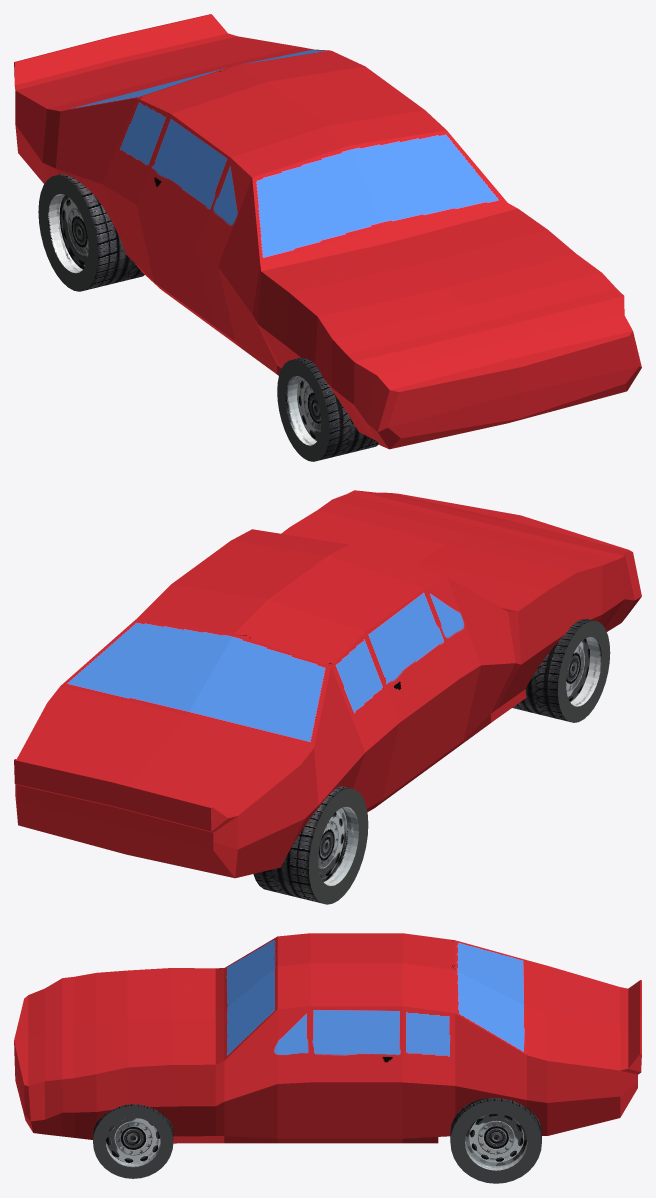
Rendered from CAR fbx.fbx.
3 views of the same model, one above another, from view 1: azimuth 30°, elevation 25°; view 2: azimuth 150°, elevation 25°; view 3: azimuth 270°, elevation 25° (orthographic). The views are drawn at different scales.
Parts seen in each view (by area): view 1: Cube, Wheel.001, Wheel.002; view 2: Cube, Wheel.001, Wheel.002; view 3: Cube, Wheel.003, Wheel.
Part boxes in pixels (x1,y1,x2,y2): Cube: [14, 14, 641, 449]; Wheel.001: [38, 174, 144, 291]; Wheel.002: [277, 357, 378, 461]; Cube: [14, 490, 641, 878]; Wheel.001: [253, 786, 368, 904]; Wheel.002: [512, 619, 610, 722]; Cube: [14, 933, 641, 1143]; Wheel.003: [450, 1098, 541, 1183]; Wheel: [93, 1104, 173, 1178].
Size of the model in its own units: 114 by 86.63 by 291.
